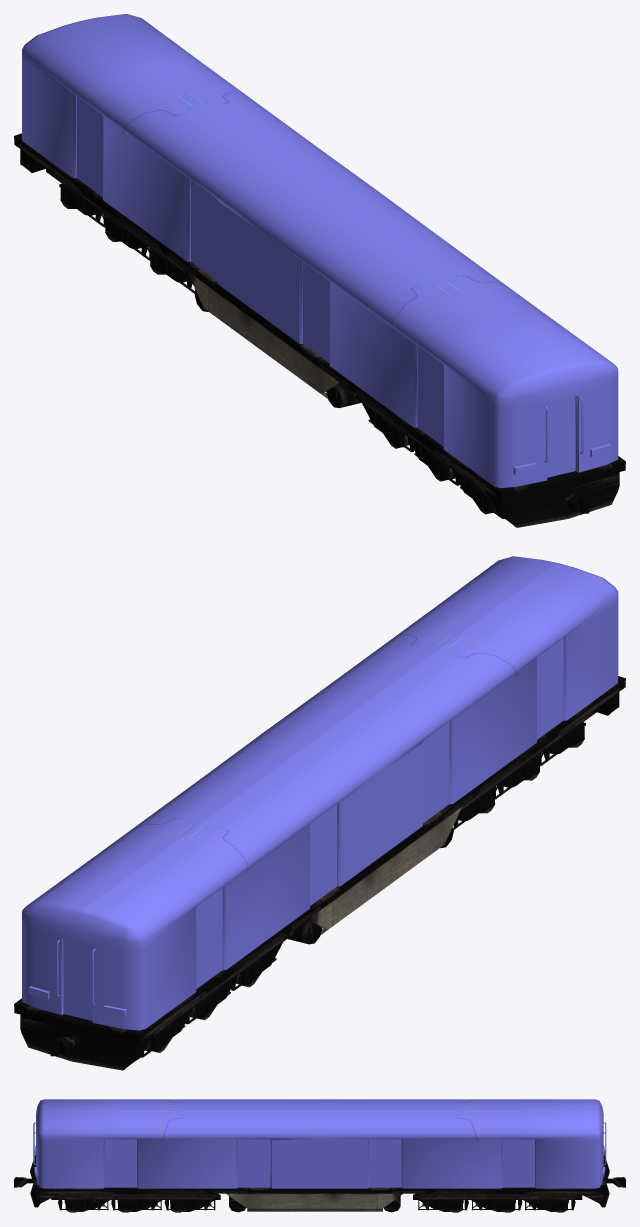
The model's file is Train.glb.
3 renders of one model, top to bottom at view 1: azimuth 30°, elevation 25°; view 2: azimuth 150°, elevation 25°; view 3: azimuth 270°, elevation 25°, orthographic. The views are drawn at different scales.
Parts seen in each view (by area): view 1: Train; view 2: Train; view 3: Train.
Boxes of the visible parts, x1,y1,x2,y2 form: Train: (14, 14, 625, 527); Train: (14, 556, 625, 1070); Train: (14, 1099, 625, 1212).
Size of the model in its own units: 32.97 by 39.45 by 238.
8 materials, 8 textured.
